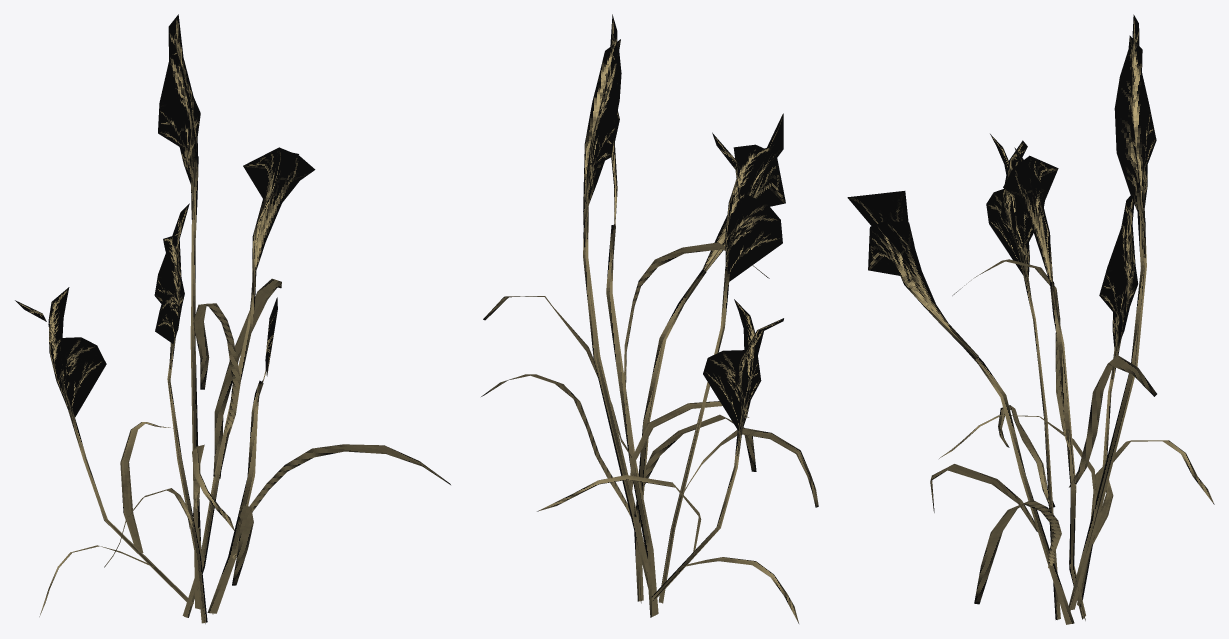
File: natural-dry-fiber-clear.glb
3 views of the same model, side by side, from view 1: azimuth 30°, elevation 25°; view 2: azimuth 150°, elevation 25°; view 3: azimuth 270°, elevation 25° (orthographic). The views are drawn at different scales.
Parts seen in each view (by area): view 1: natural-dry-fiber-clear runtime mesh; view 2: natural-dry-fiber-clear runtime mesh; view 3: natural-dry-fiber-clear runtime mesh.
Boxes of the visible parts, <box> form: natural-dry-fiber-clear runtime mesh: <box>15,14,450,623</box>; natural-dry-fiber-clear runtime mesh: <box>481,14,818,623</box>; natural-dry-fiber-clear runtime mesh: <box>847,14,1214,624</box>.
Bounding box in the file's own units: 0.272 × 0.42 × 0.2278.
Materials: 1 (1 with a texture image).
